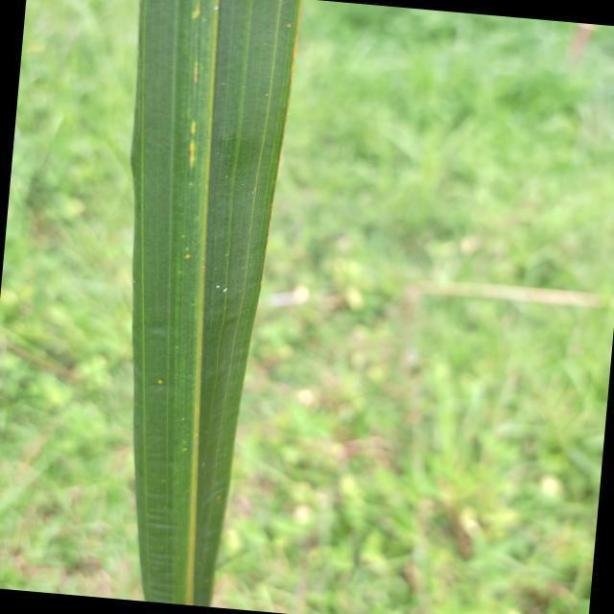Boron: (130, 0, 302, 610)
